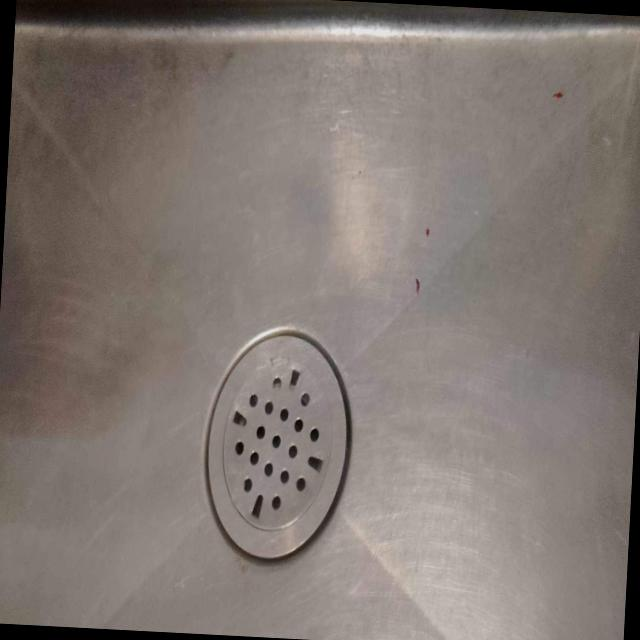Pathological: (2, 3, 637, 636)
Sharps: (202, 324, 352, 561)
